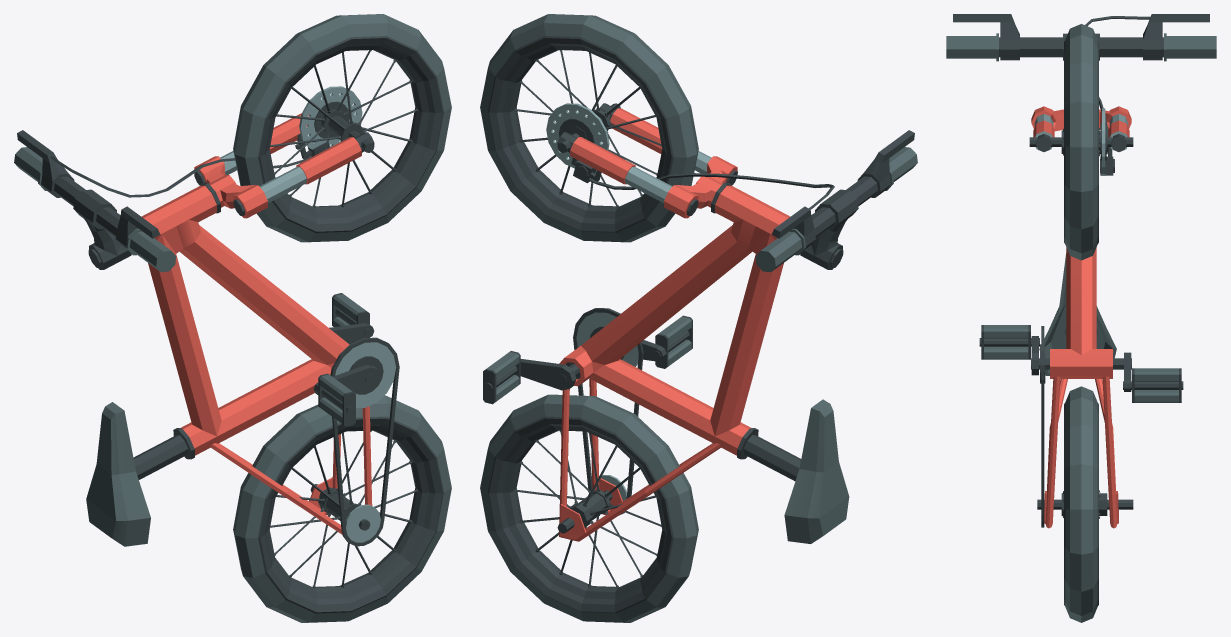
The model's file is bicycle.fbx.
The picture shows the model from 3 angles, left to right: view 1: azimuth 30°, elevation 25°; view 2: azimuth 150°, elevation 25°; view 3: azimuth 270°, elevation 25°; orthographic projection. The views are drawn at different scales.
Visible parts, largest first — view 1: polySurface78, polySurface75, polySurface76, polySurface77, polySurface74, polySurface79, polySurface25; view 2: polySurface78, polySurface75, polySurface76, polySurface77, polySurface74, polySurface79, polySurface25; view 3: polySurface75, polySurface76, polySurface78, polySurface77, polySurface74, polySurface79, polySurface25.
Boxes of the visible parts, bbox=[...] form: polySurface78: bbox=[86, 113, 375, 546]; polySurface75: bbox=[233, 14, 451, 242]; polySurface76: bbox=[233, 395, 451, 622]; polySurface77: bbox=[14, 130, 311, 272]; polySurface74: bbox=[313, 293, 396, 426]; polySurface79: bbox=[210, 406, 372, 534]; polySurface25: bbox=[330, 337, 399, 546]; polySurface78: bbox=[556, 103, 849, 543]; polySurface75: bbox=[480, 14, 698, 242]; polySurface76: bbox=[480, 394, 698, 622]; polySurface77: bbox=[589, 130, 917, 272]; polySurface74: bbox=[483, 312, 692, 404]; polySurface79: bbox=[559, 378, 721, 541]; polySurface25: bbox=[573, 308, 643, 515]; polySurface75: bbox=[1029, 24, 1133, 260]; polySurface76: bbox=[1037, 386, 1133, 622]; polySurface78: bbox=[1031, 106, 1131, 378]; polySurface77: bbox=[946, 14, 1216, 156]; polySurface74: bbox=[979, 325, 1183, 402]; polySurface79: bbox=[1045, 376, 1117, 528]; polySurface25: bbox=[1041, 326, 1044, 527].
Bounding box in the file's own units: 9.34 × 14.71 × 6.25.
